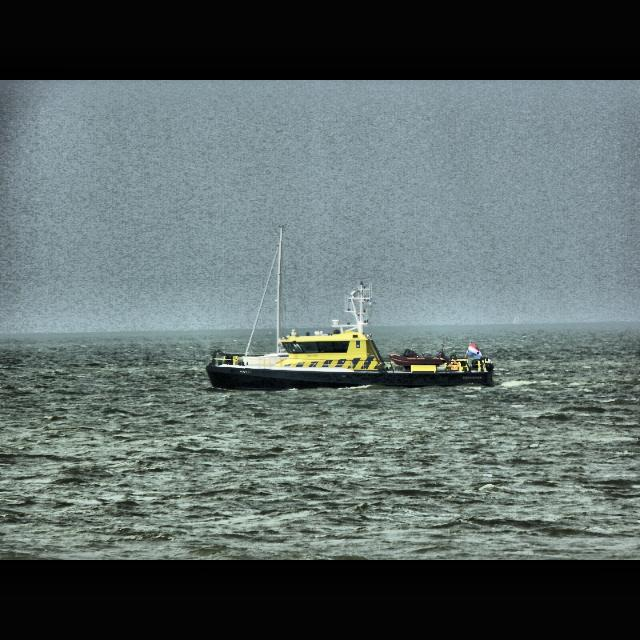patrol_vessel: (207, 278, 496, 394)
